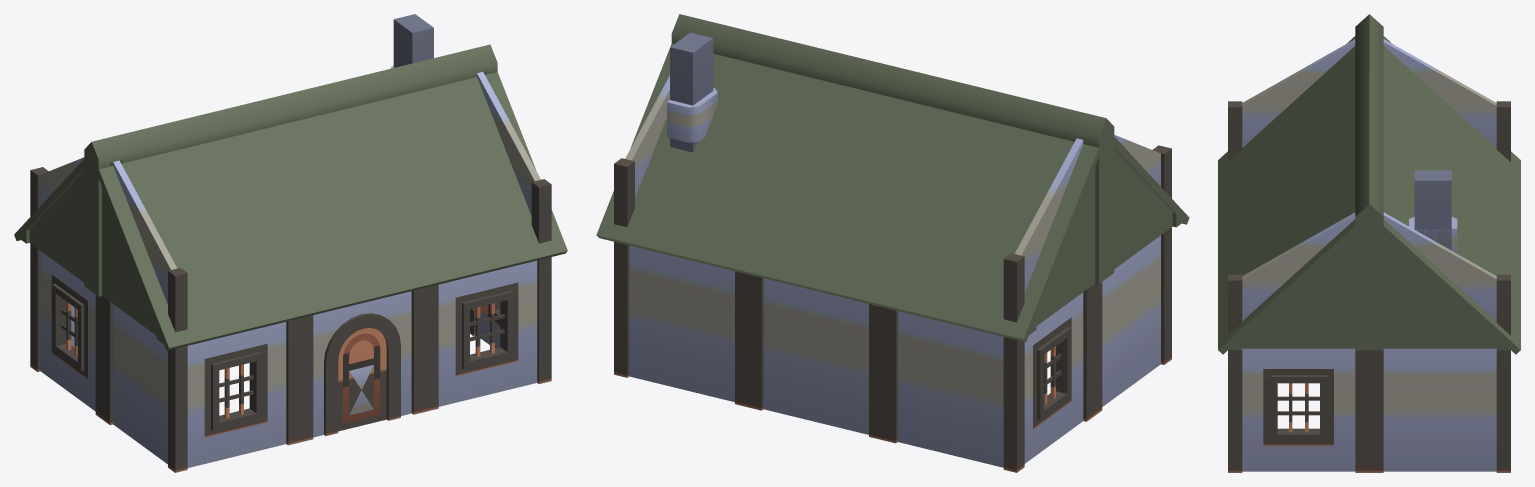
File: maison-elcres-3.glb
3 views of the same model, side by side, from view 1: azimuth 30°, elevation 25°; view 2: azimuth 150°, elevation 25°; view 3: azimuth 270°, elevation 25° (orthographic). The views are drawn at different scales.
Visible parts, largest first — view 1: roof-high, wall-window-shutters; view 2: roof-high, wall-window-shutters; view 3: roof-high, wall-window-shutters.
Part boxes in pixels (box(x1,y1,x2,y2)): roof-high: box(14, 44, 567, 350); wall-window-shutters: box(30, 14, 551, 472); roof-high: box(596, 14, 1189, 341); wall-window-shutters: box(614, 32, 1171, 472); roof-high: box(1218, 14, 1520, 354); wall-window-shutters: box(1228, 39, 1510, 472).
Bounding box in the file's own units: 9.54 × 6.6 × 6.42.
Materials: 2 (1 with a texture image).
